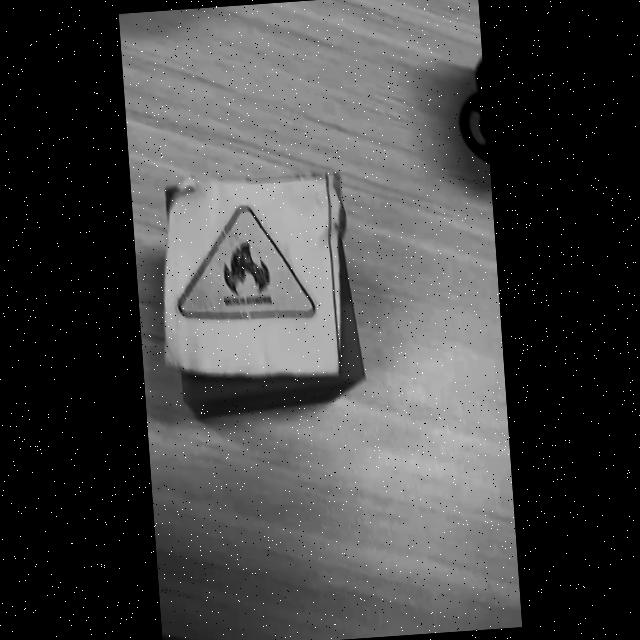Fire: (177, 206, 315, 321)
